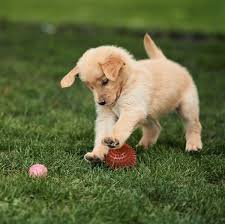dog: (56, 33, 214, 157)
